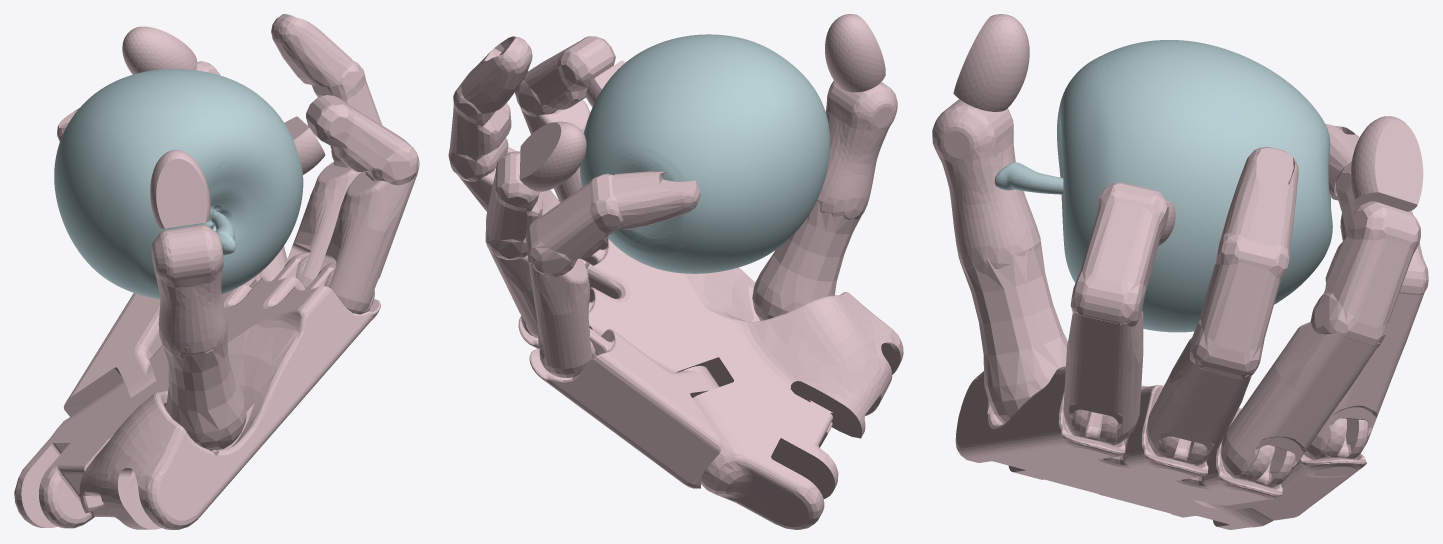
Rendered from grasp_5.glb.
The picture shows the model from 3 angles, left to right: view 1: azimuth 30°, elevation 25°; view 2: azimuth 150°, elevation 25°; view 3: azimuth 270°, elevation 25°; orthographic projection. The views are drawn at different scales.
Visible parts, largest first — view 1: world; view 2: world; view 3: world.
Boxes of the visible parts, x1,y1,x2,y2 form: world: [14, 14, 419, 529]; world: [448, 14, 903, 529]; world: [932, 14, 1428, 529].
Size of the model in its own units: 0.1344 by 0.1531 by 0.1296.
